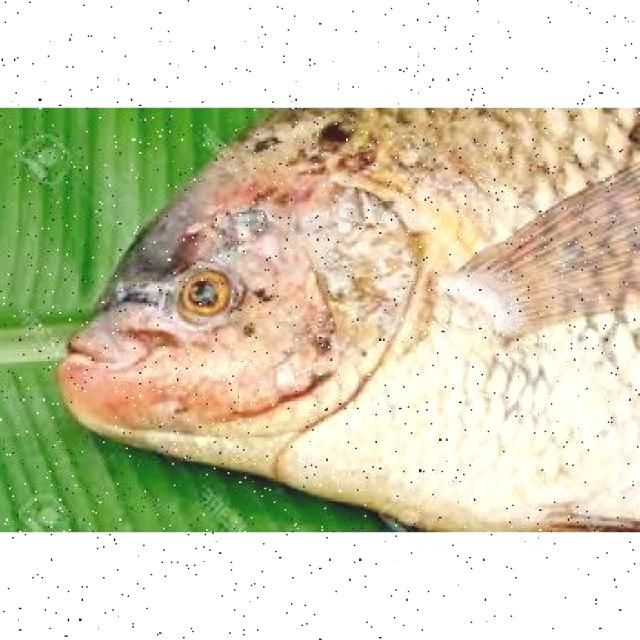gurame: (62, 104, 640, 521)
